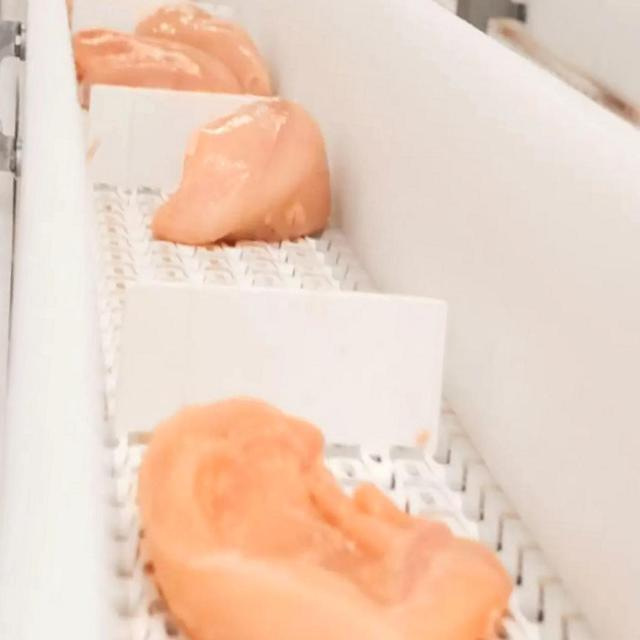food: (134, 395, 520, 638), (148, 95, 332, 247)
